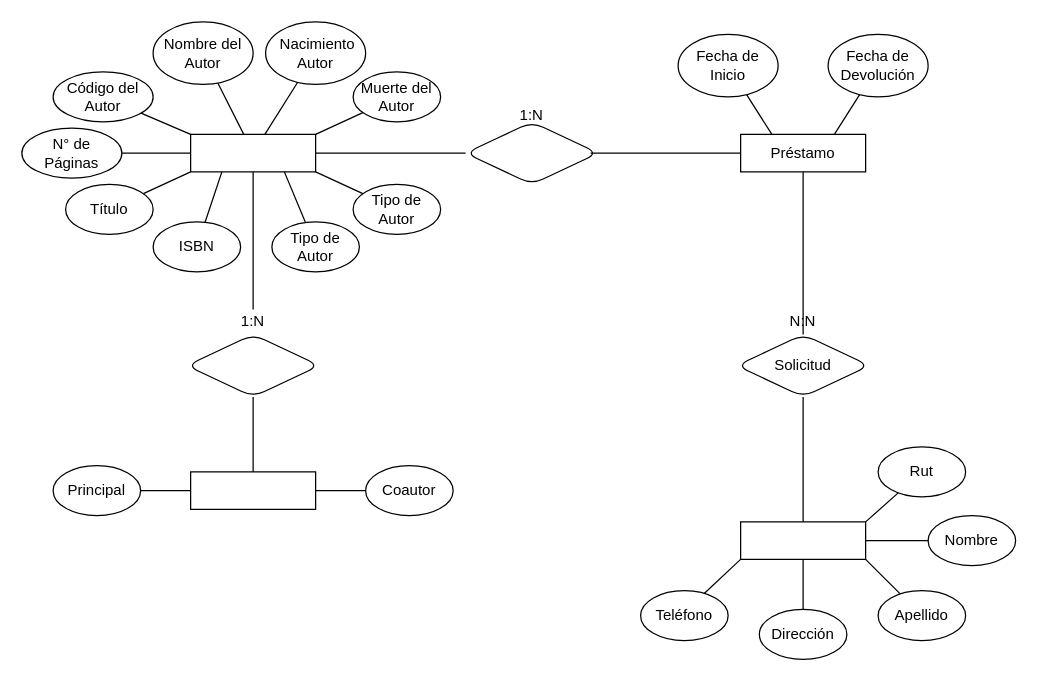
This 1038x681 diagram has some shape labels left out. Each missing label, with the centre of its shape:
Autor: [252,490]
Libro: [252,152]
Servicio: [531,152]
Socio: [802,540]
Tiene: [252,365]
